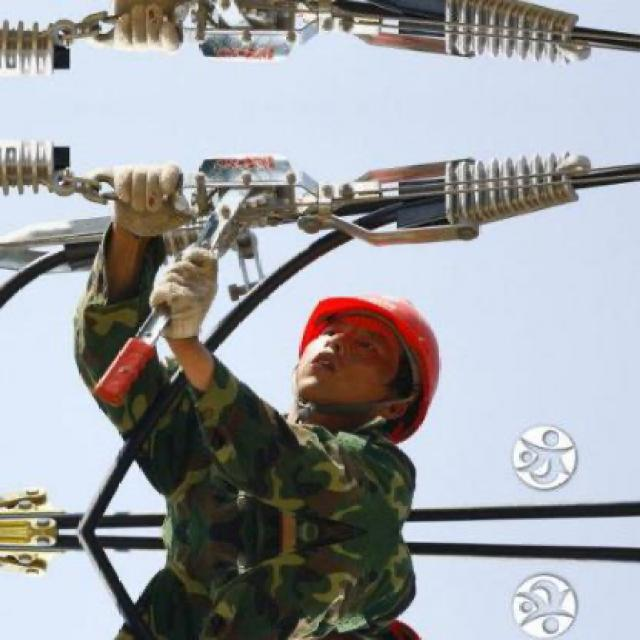helmet: (275, 271, 451, 435)
